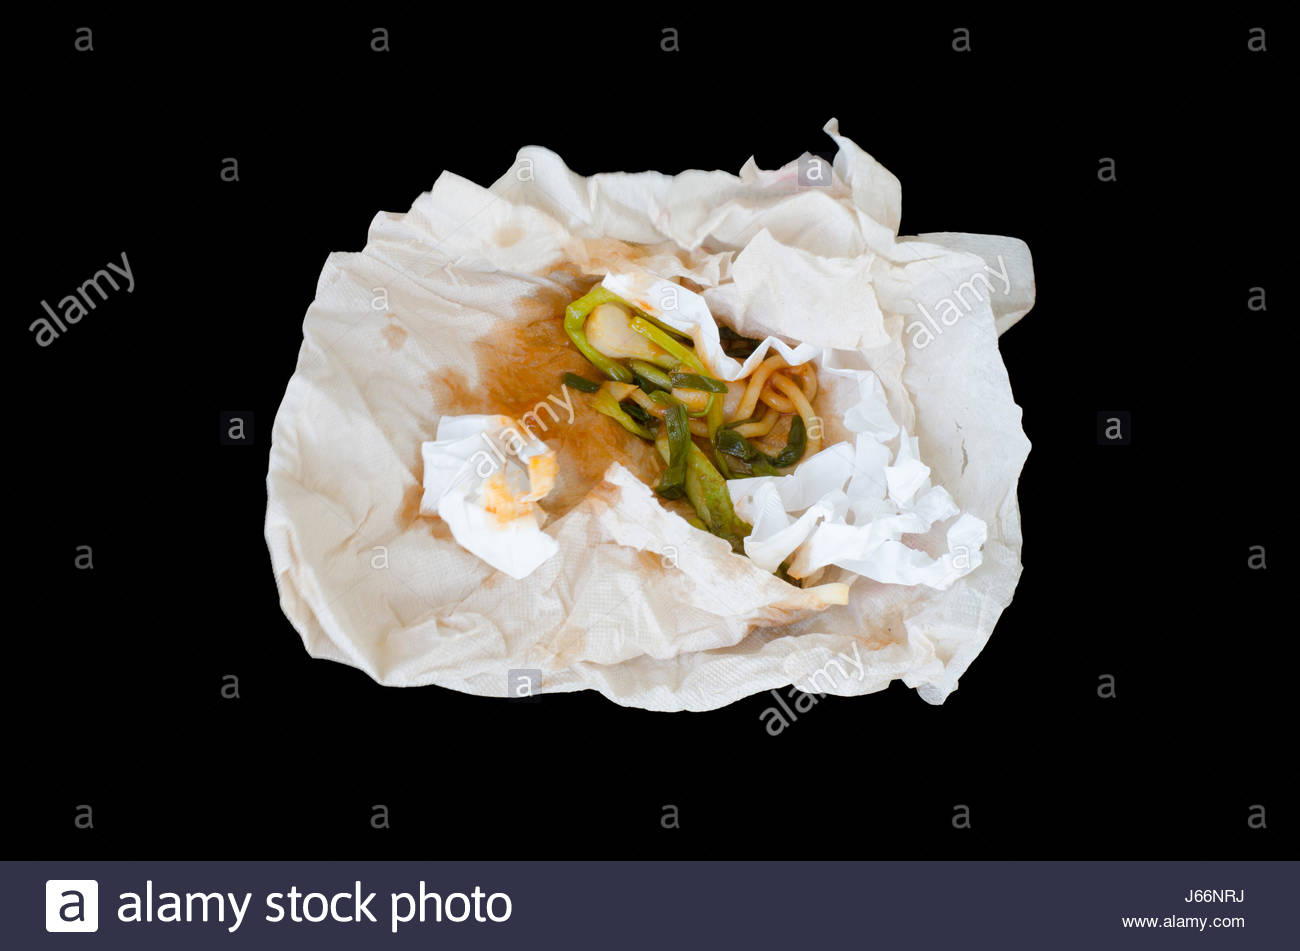Tissue: (247, 92, 1050, 723)
